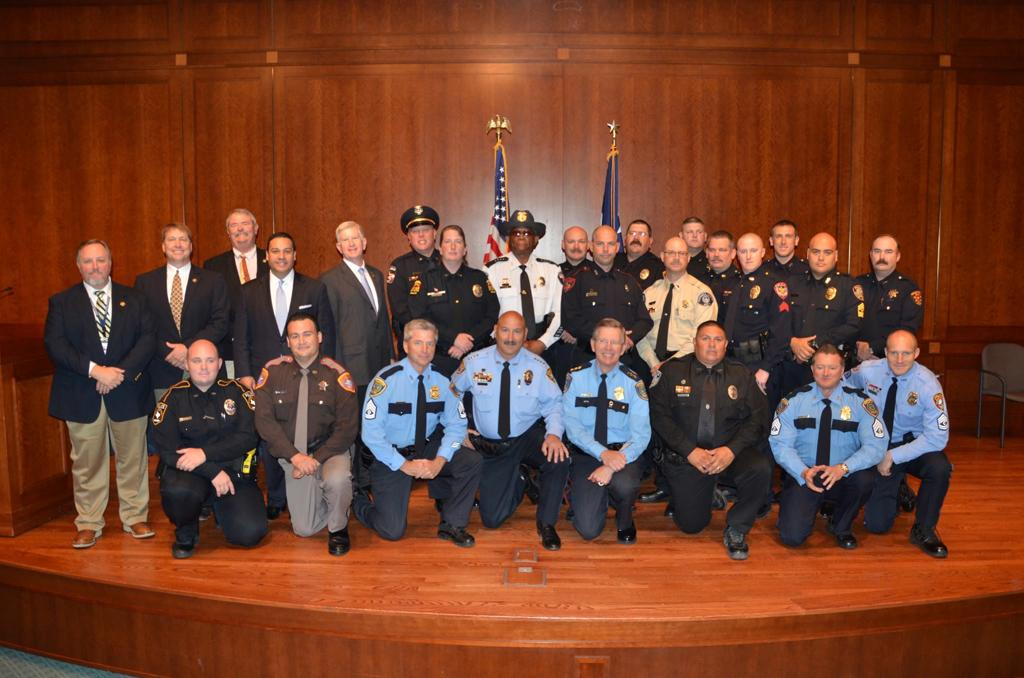face: (77, 243, 110, 285), (887, 330, 915, 376), (496, 311, 524, 354), (288, 319, 318, 357), (188, 345, 217, 382), (407, 327, 435, 365), (812, 352, 840, 388), (695, 326, 723, 362), (809, 232, 834, 272), (595, 325, 621, 362), (593, 224, 616, 263), (163, 226, 189, 260), (229, 212, 253, 248), (737, 234, 761, 270), (872, 236, 897, 270), (268, 237, 292, 271), (663, 237, 687, 271), (627, 221, 649, 255), (339, 226, 363, 257), (707, 237, 730, 268), (441, 228, 463, 259), (566, 226, 586, 259), (773, 225, 795, 255), (510, 226, 533, 252), (410, 225, 432, 249), (682, 222, 704, 246)
